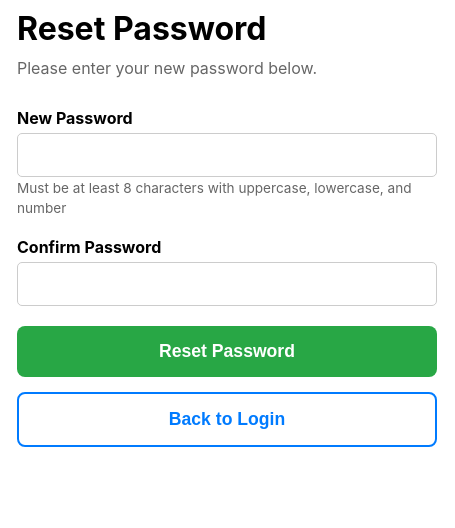
ResetPasswordPage › should validate passwords match
Enter mismatched passwords
Type "ValidPass123" into the password field labelled "New Password" at (227, 155), box [17,133,437,177]
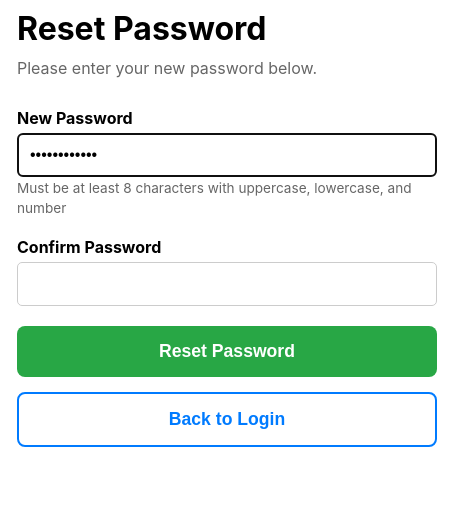
Type "DifferentPass456" into the password field labelled "Confirm Password" at (227, 284), box [17,262,437,306]
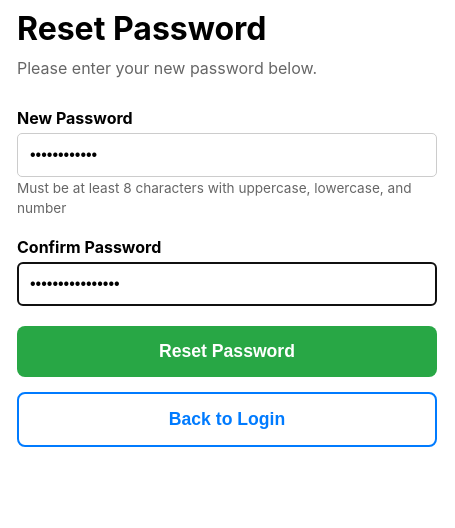
Click the button "Reset Password" at (227, 352), box [17,326,437,377]
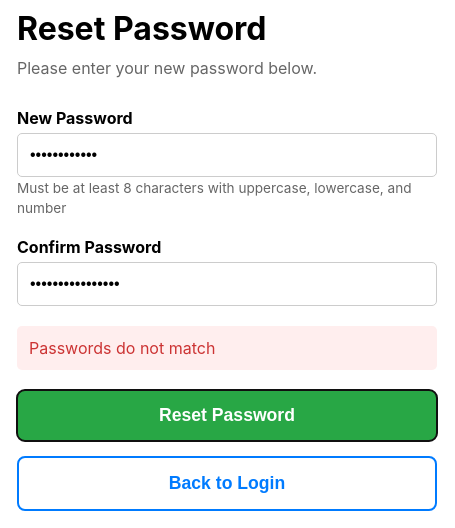
Check: the text "Passwords do not match" is shown, box [17,326,437,370]
